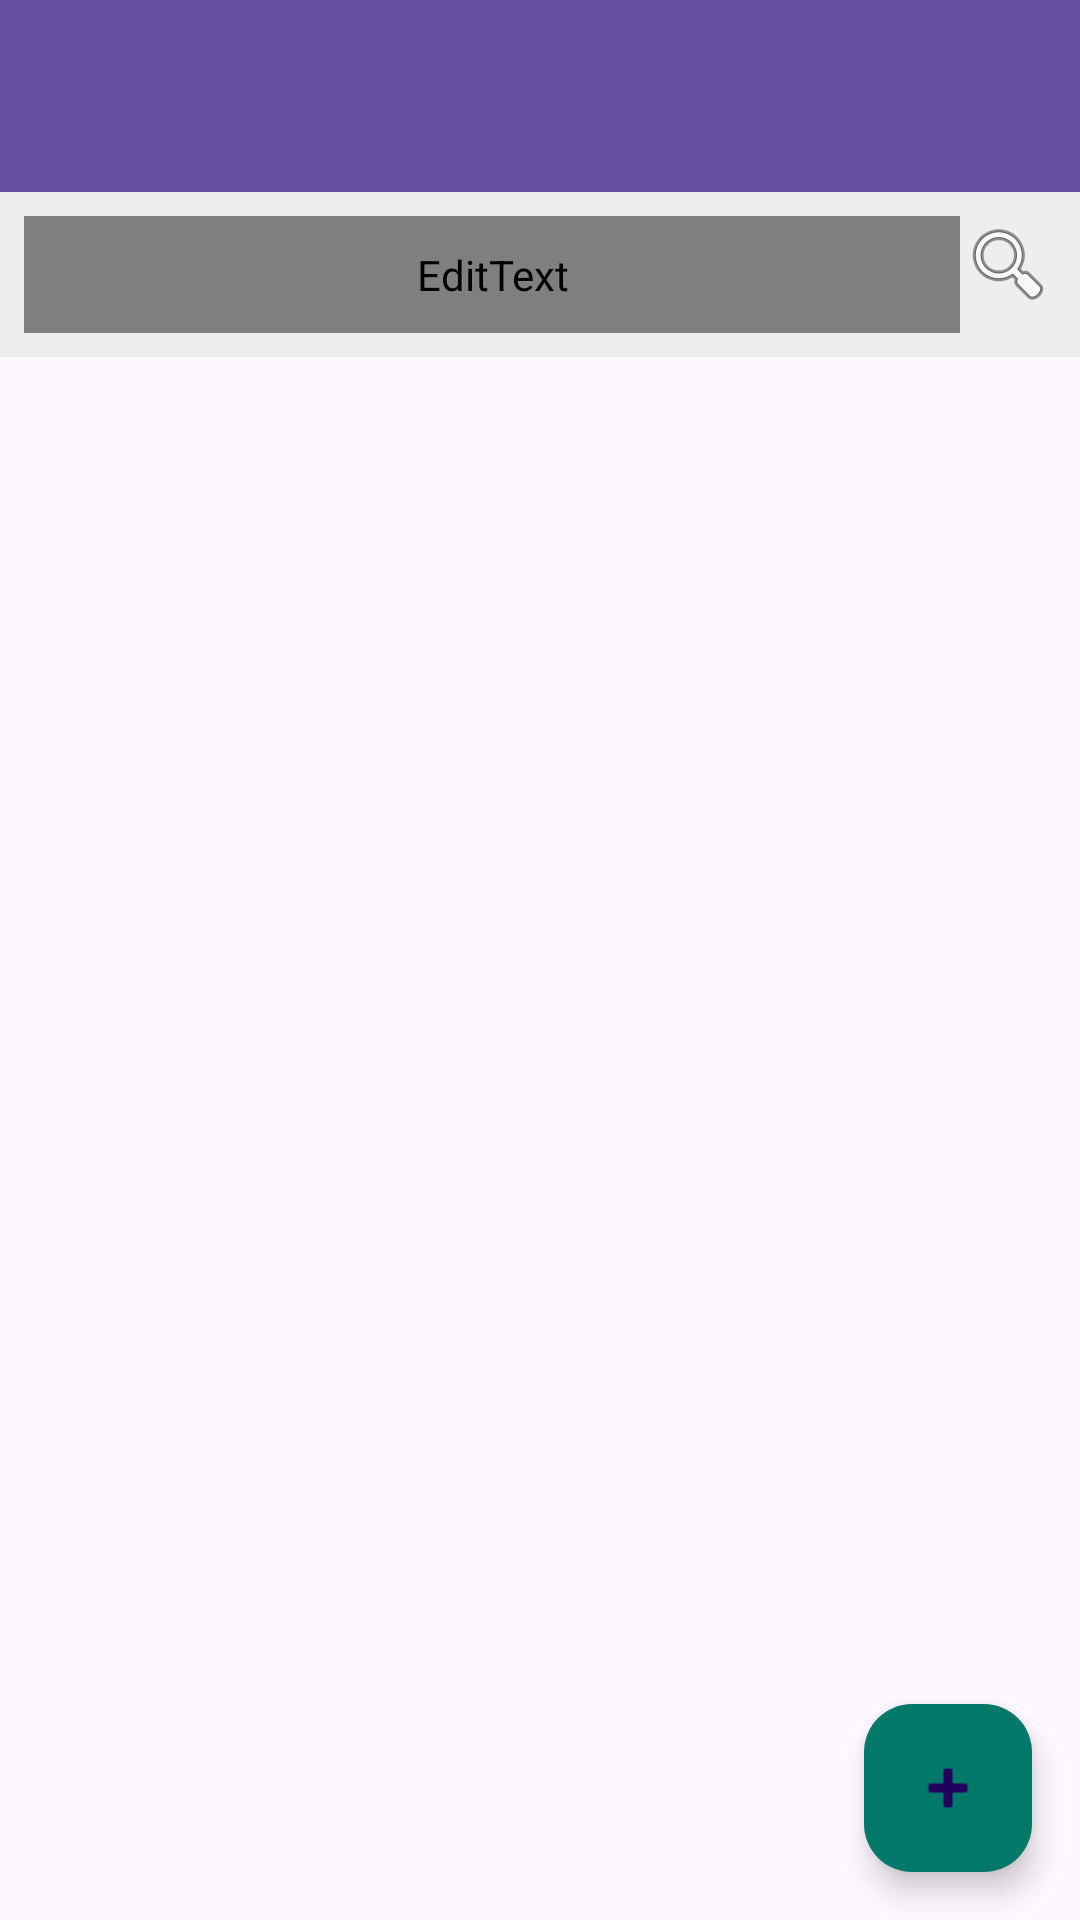

Icon bounding boxes for this 1080px x 1920px phone screenshot, format (x1, y1, x2, y2):
search: (972, 229, 1044, 300)
Thêm chứng chỉ: (864, 1704, 1032, 1872)
